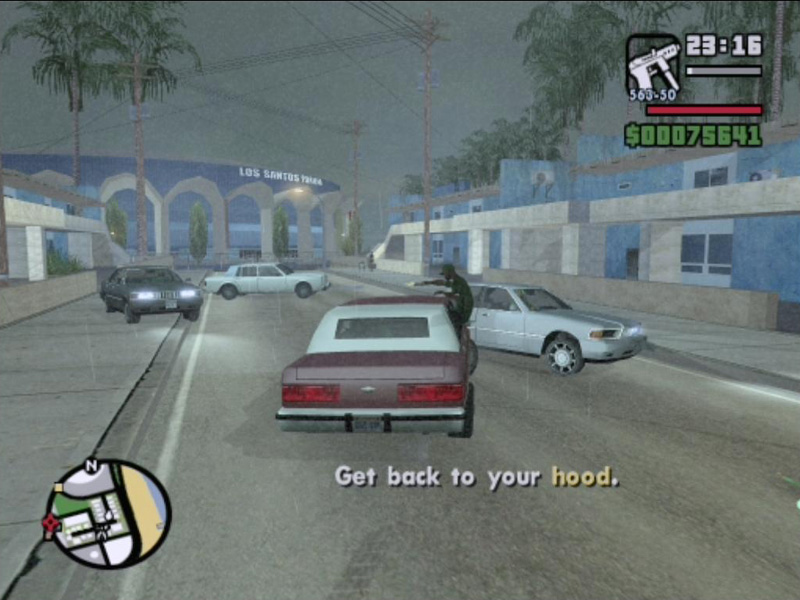car: (281, 304, 479, 446), (430, 282, 646, 373), (101, 265, 205, 323), (204, 257, 329, 299)
